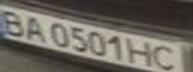0: (45, 20, 72, 48), (84, 29, 106, 57)
1: (103, 33, 127, 62)
5: (66, 25, 90, 54)
A: (21, 14, 48, 43)
B: (0, 7, 30, 37)
C: (151, 43, 184, 72)
H: (127, 38, 157, 68)
